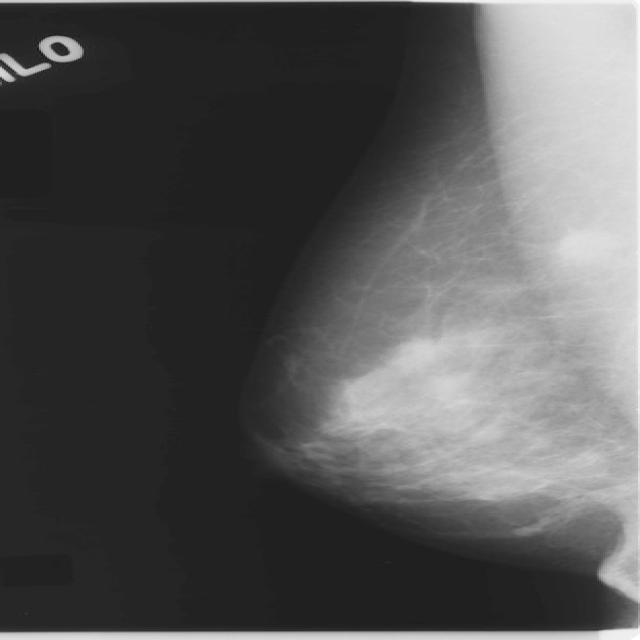tumour: (554, 228, 615, 264)
